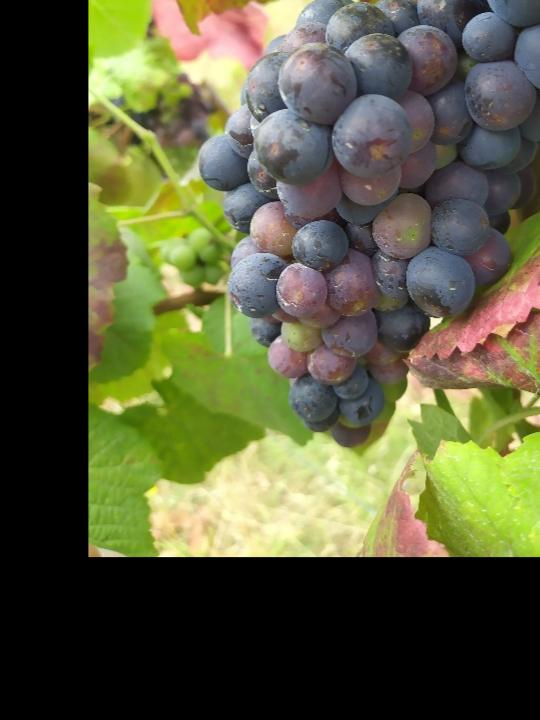grape: (191, 0, 540, 458)
